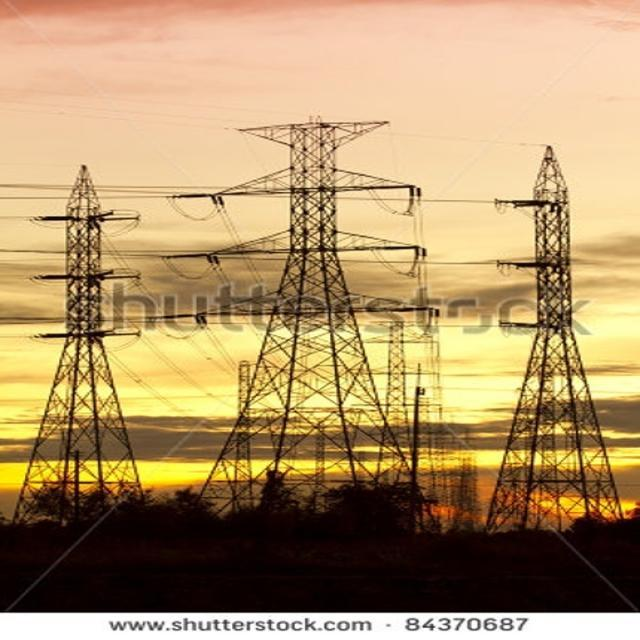non-critical vegetation: (220, 118, 426, 526), (501, 136, 628, 534), (17, 162, 154, 528)
